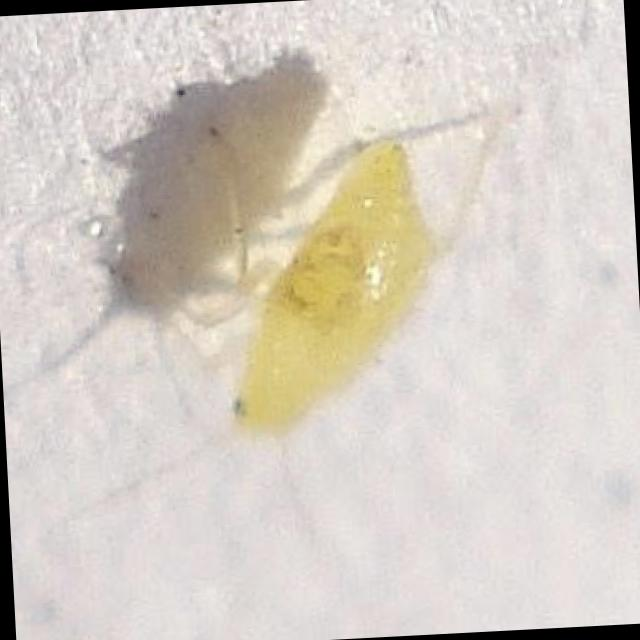Aphids: (93, 66, 566, 514)
